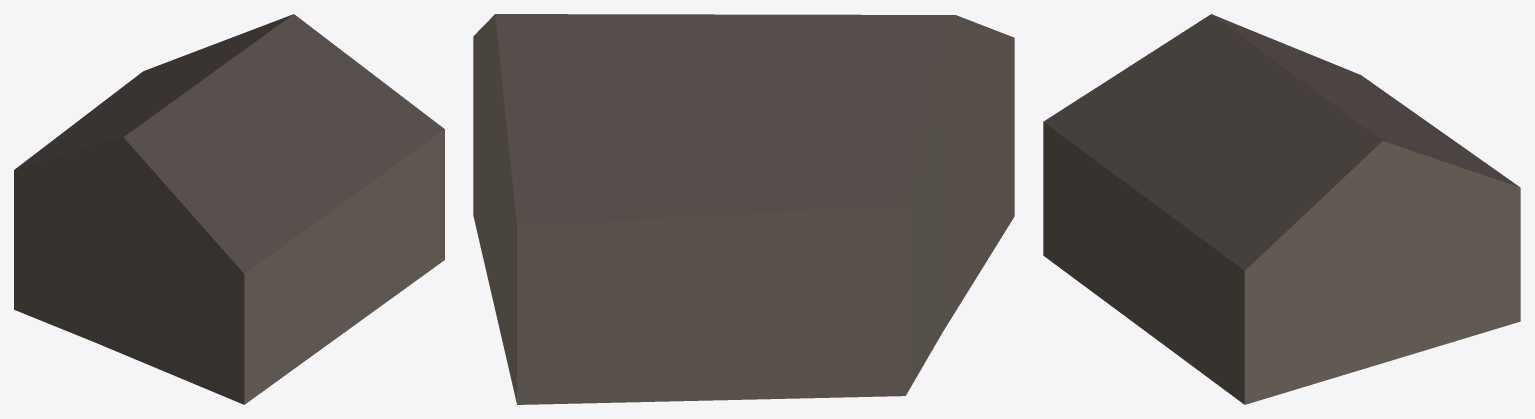
The picture shows the model from 3 angles, left to right: view 1: azimuth 30°, elevation 25°; view 2: azimuth 150°, elevation 25°; view 3: azimuth 270°, elevation 25°; orthographic projection. The views are drawn at different scales.
Visible parts, largest first — view 1: HP-w1198667811; view 2: HP-w1198667811; view 3: HP-w1198667811.
Part boxes in pixels (x1,y1,x2,y2): HP-w1198667811: (14,14,444,404); HP-w1198667811: (473,14,1014,404); HP-w1198667811: (1043,14,1520,404).
Bounding box in the file's own units: 17.93 × 9.95 × 19.36.
